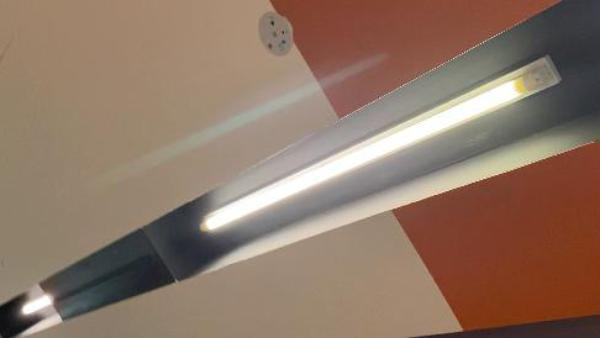light_on: (192, 42, 572, 243), (11, 273, 67, 338)
